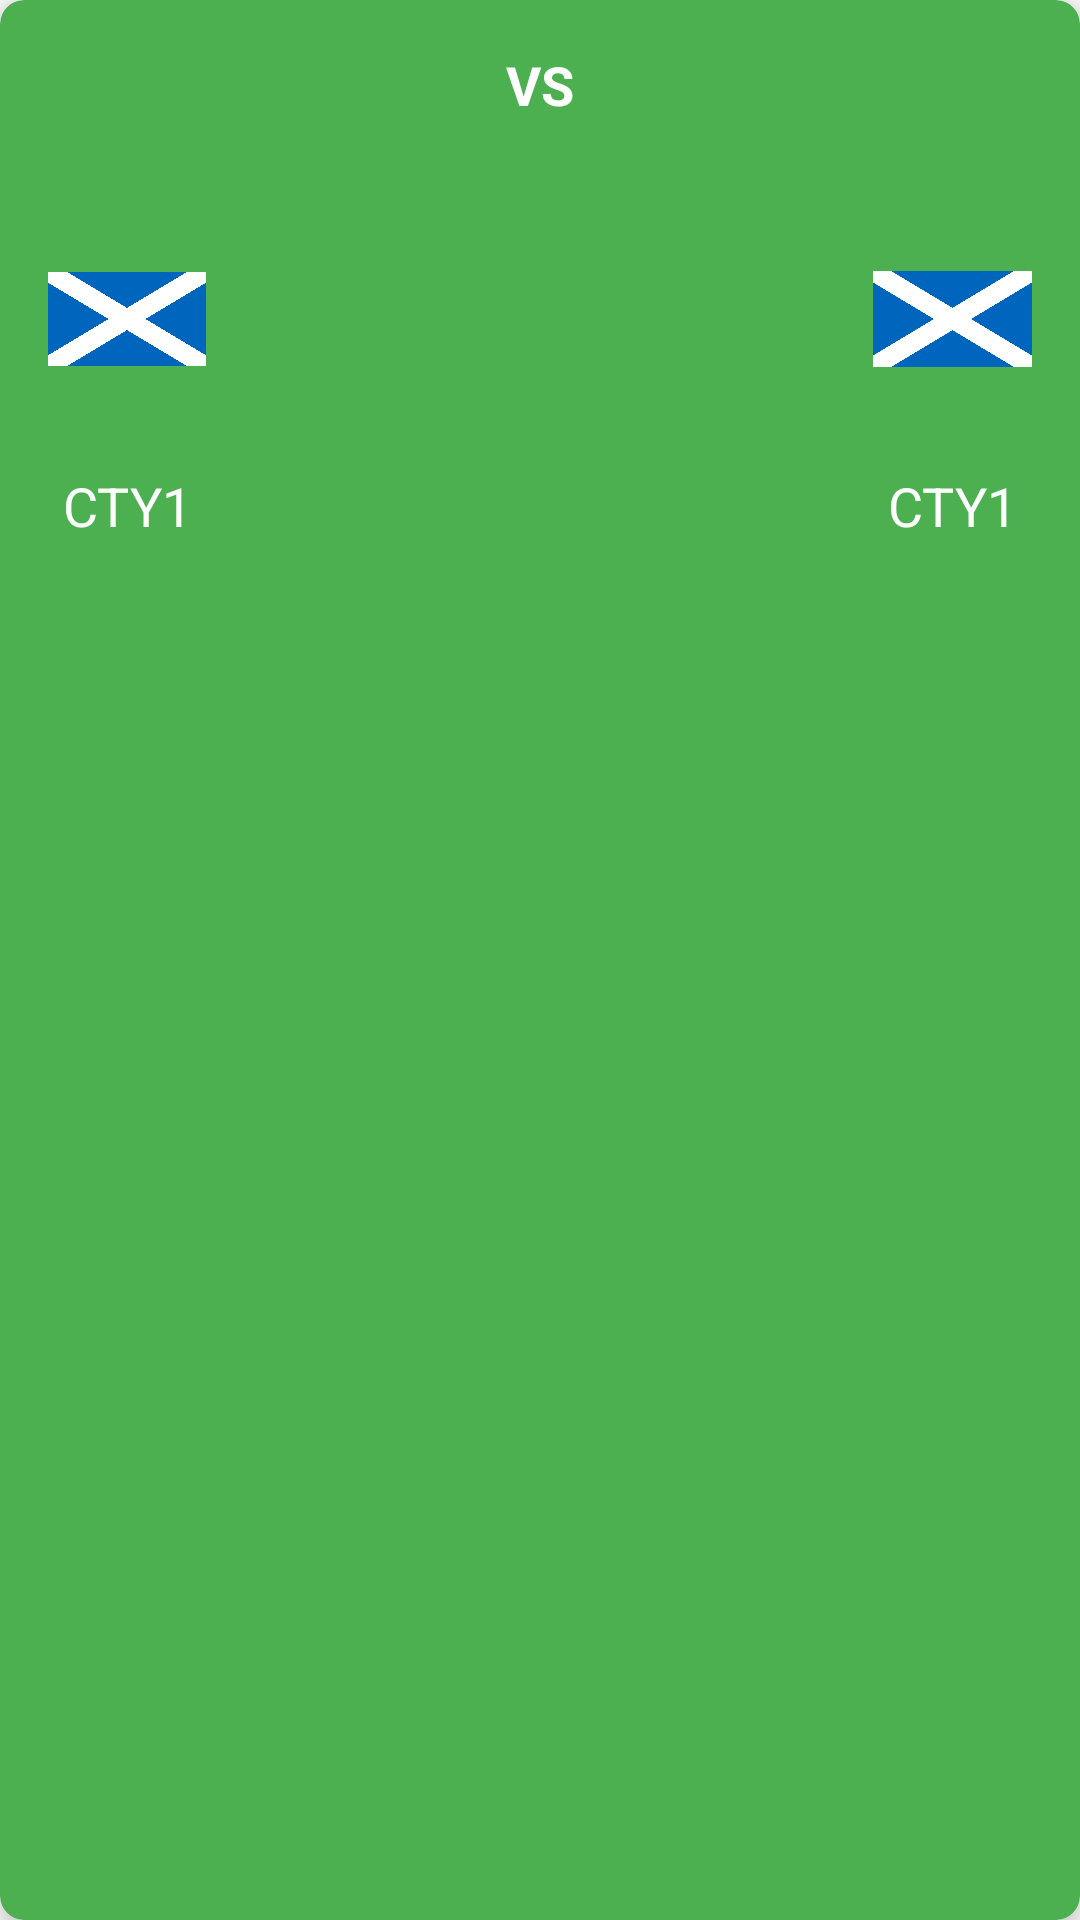

Screen size 1080x1920. Icon name, then its center in pixels as [x,y]:
flag: [952,319], [127,319]
